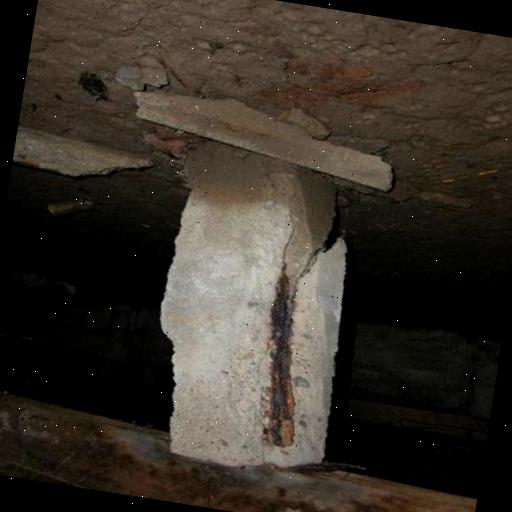spalling: (228, 216, 348, 477)
